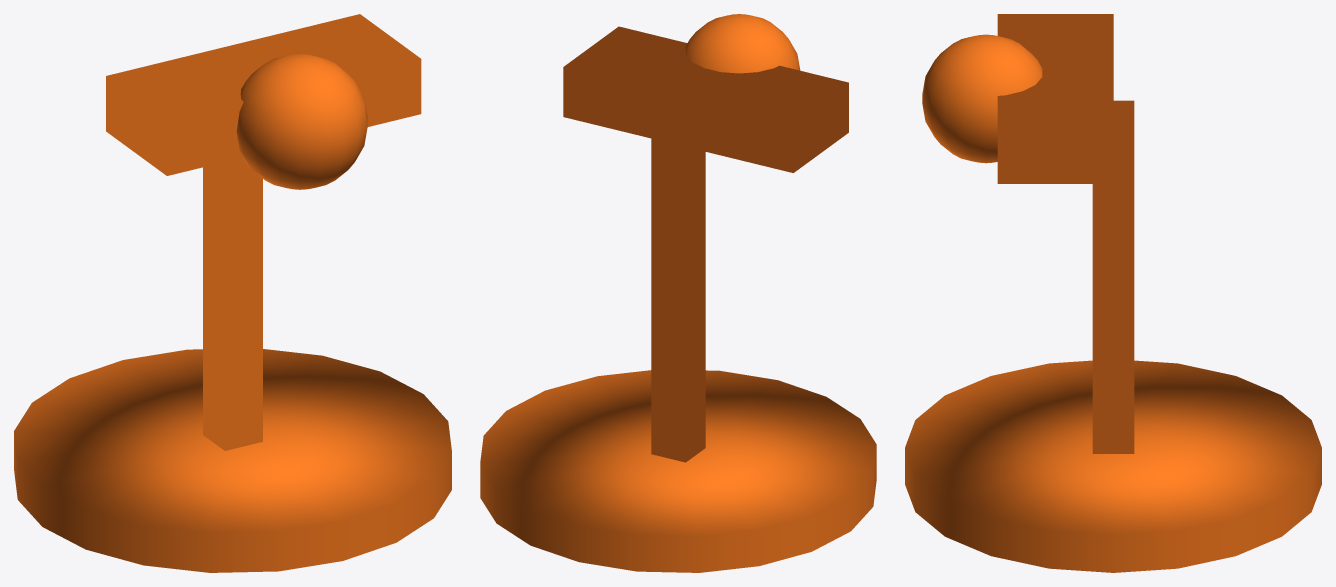
Rendered from lamp.obj.
The picture shows the model from 3 angles, left to right: view 1: azimuth 30°, elevation 25°; view 2: azimuth 150°, elevation 25°; view 3: azimuth 270°, elevation 25°; orthographic projection. The views are drawn at different scales.
Visible parts, largest first — view 1: lamp; view 2: lamp; view 3: lamp.
Boxes of the visible parts, x1=… form: lamp: x1=14, y1=14, x2=451, y2=572; lamp: x1=480, y1=14, x2=876, y2=572; lamp: x1=905, y1=14, x2=1321, y2=572.
Bounding box in the file's own units: 1.8 × 2.12 × 1.8.
